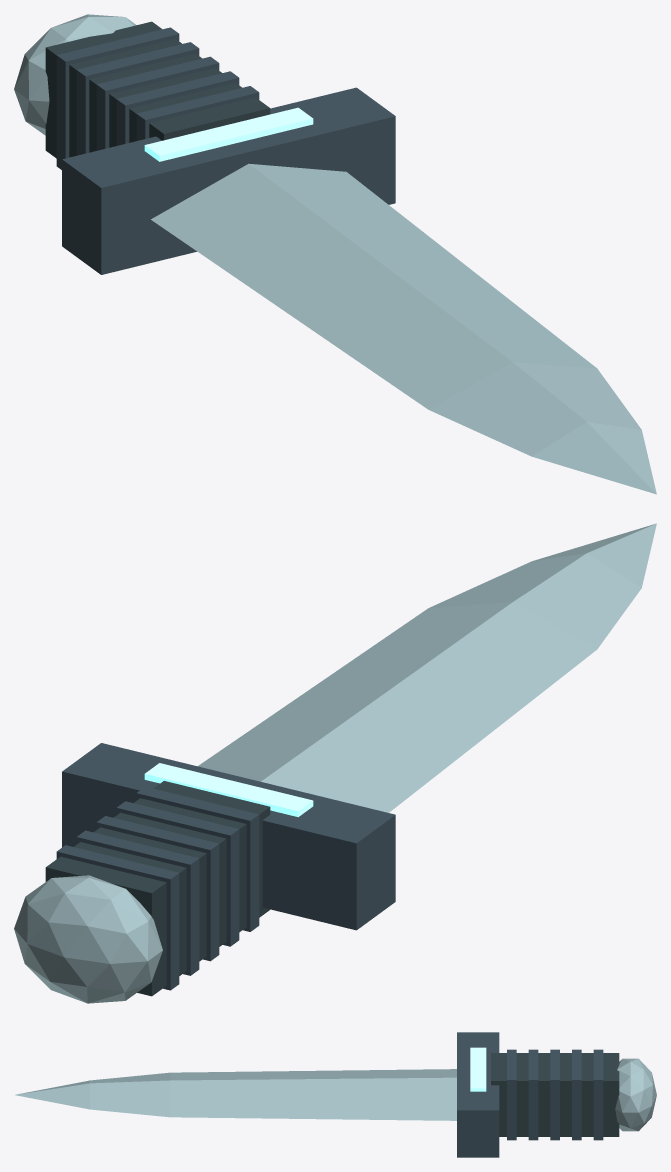
Rendered from shortsword.glb.
3 views of the same model, one above another, from view 1: azimuth 30°, elevation 25°; view 2: azimuth 150°, elevation 25°; view 3: azimuth 270°, elevation 25° (orthographic). The views are drawn at different scales.
Visible parts, largest first — view 1: Double-edged blade, Guard, Hand wrap, Pommel, Guard inlay, Grip rib.004, Grip rib.003, Grip rib.002, Grip rib.001, Grip rib; view 2: Double-edged blade, Guard, Pommel, Hand wrap, Grip rib, Grip rib.002, Grip rib.004, Grip rib.003, Grip rib.001, Guard inlay; view 3: Double-edged blade, Hand wrap, Guard, Pommel, Grip rib.001, Grip rib.004, Grip rib, Grip rib.002, Grip rib.003, Guard inlay.
Boxes of the visible parts, x1,y1,x2,y2 form: Double-edged blade: (151,163,656,494); Guard: (62,87,395,274); Hand wrap: (45,21,270,158); Pommel: (14,14,136,135); Guard inlay: (144,107,313,161); Grip rib.004: (56,27,179,169); Grip rib.003: (76,42,199,155); Grip rib.002: (96,56,219,150); Grip rib.001: (116,71,239,145); Grip rib: (136,86,259,140); Double-edged blade: (198,523,656,812); Guard: (62,743,395,930); Pommel: (14,875,162,1003); Hand wrap: (45,781,270,996); Grip rib: (136,786,259,931); Grip rib.002: (96,816,219,961); Grip rib.004: (56,845,179,990); Grip rib.003: (76,830,199,975); Grip rib.001: (116,801,239,946); Guard inlay: (144,763,313,817); Double-edged blade: (15,1069,456,1120); Hand wrap: (491,1053,619,1136); Guard: (457,1032,499,1157); Pommel: (615,1058,656,1131); Grip rib.001: (528,1049,538,1140); Grip rib.004: (593,1049,603,1140); Grip rib: (507,1049,516,1140); Grip rib.002: (550,1049,559,1140); Grip rib.003: (572,1049,581,1140); Guard inlay: (470,1047,486,1091).
Size of the model in its own units: 0.23 by 0.092 by 0.802.
